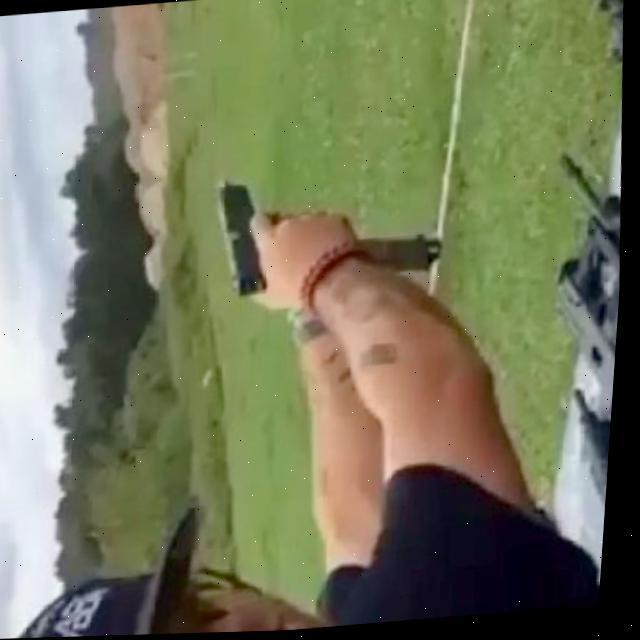gun: (206, 160, 451, 300)
